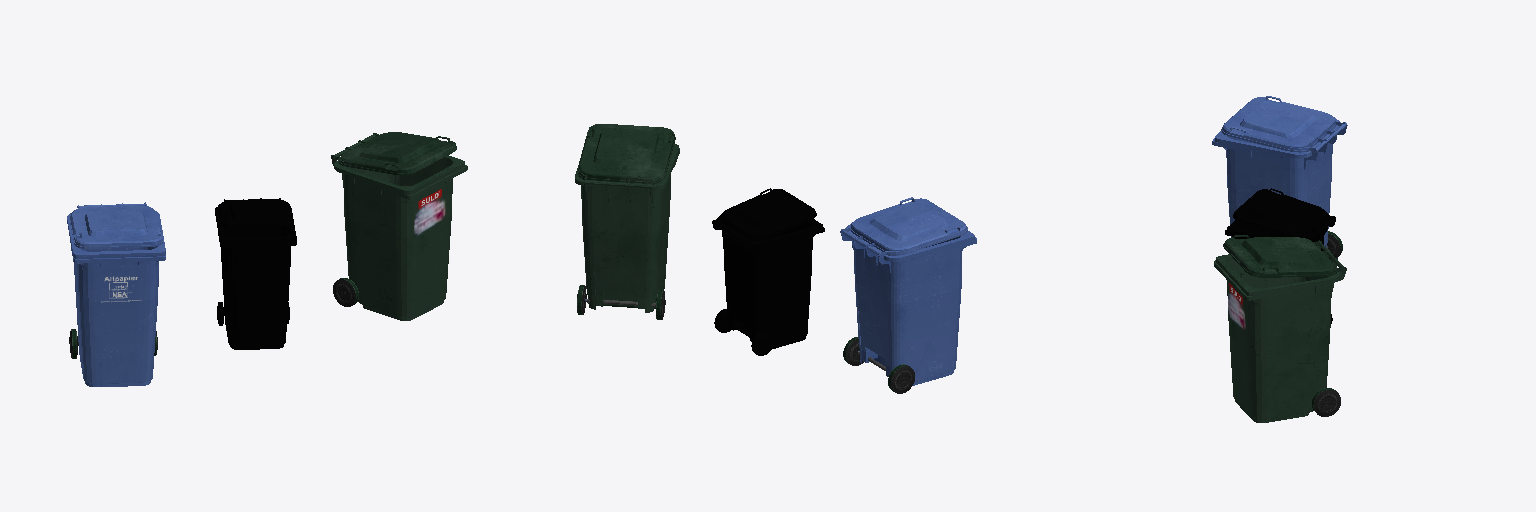
3 renders of one model, left to right at view 1: azimuth 30°, elevation 25°; view 2: azimuth 150°, elevation 25°; view 3: azimuth 270°, elevation 25°, orthographic.
Parts seen in each view (by area): view 1: Object_10_Object_2.002, Object_5_Object_0.002, Object_15_Object_4.002, Object_7_Object_1.002, Object_12_Object_3.002, Object_17_Object_5.002; view 2: Object_5_Object_0.002, Object_10_Object_2.002, Object_15_Object_4.002, Object_12_Object_3.002, Object_7_Object_1.002, Object_17_Object_5.002; view 3: Object_10_Object_2.002, Object_5_Object_0.002, Object_7_Object_1.002, Object_12_Object_3.002, Object_17_Object_5.002, Object_15_Object_4.002.
Boxes of the visible parts, <box> form: Object_10_Object_2.002: <box>331,133,467,320</box>; Object_5_Object_0.002: <box>67,203,165,386</box>; Object_15_Object_4.002: <box>215,198,296,349</box>; Object_7_Object_1.002: <box>70,202,162,248</box>; Object_12_Object_3.002: <box>331,132,456,174</box>; Object_17_Object_5.002: <box>217,198,293,228</box>; Object_5_Object_0.002: <box>841,225,976,393</box>; Object_10_Object_2.002: <box>575,144,679,319</box>; Object_15_Object_4.002: <box>713,217,824,355</box>; Object_12_Object_3.002: <box>578,124,675,188</box>; Object_7_Object_1.002: <box>840,197,967,257</box>; Object_17_Object_5.002: <box>712,188,816,243</box>; Object_10_Object_2.002: <box>1214,241,1345,422</box>; Object_5_Object_0.002: <box>1212,120,1346,258</box>; Object_7_Object_1.002: <box>1221,96,1347,152</box>; Object_12_Object_3.002: <box>1223,235,1346,277</box>; Object_17_Object_5.002: <box>1233,188,1335,238</box>; Object_15_Object_4.002: <box>1225,216,1335,323</box>.
Size of the model in its own units: 3.01 by 1.18 by 0.9015.
Materials: 2 (1 with a texture image).